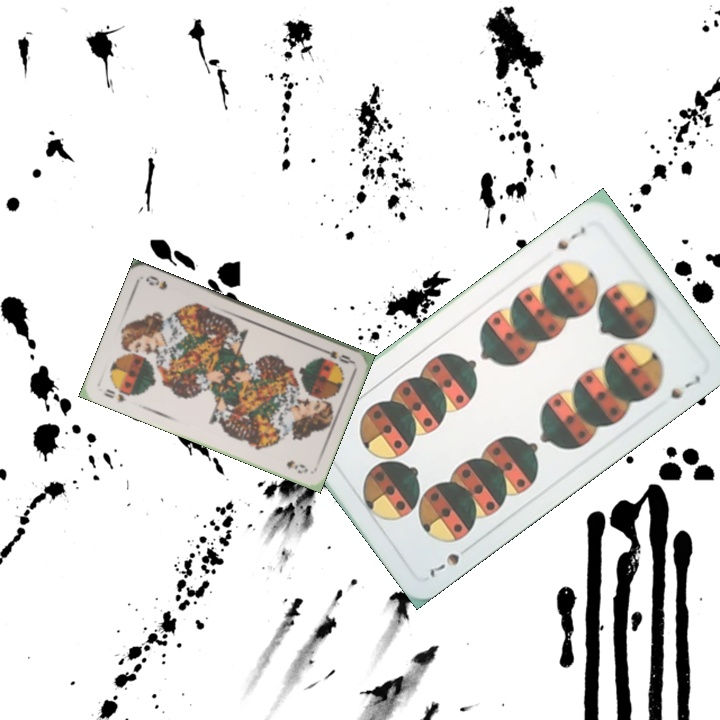S7: (423, 549, 462, 580), (553, 222, 589, 253)
SO: (316, 344, 355, 366), (100, 385, 133, 405)
